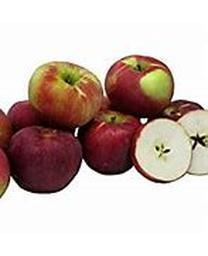apple: (27, 61, 102, 130), (10, 126, 83, 193), (104, 54, 174, 119), (77, 106, 142, 175)
